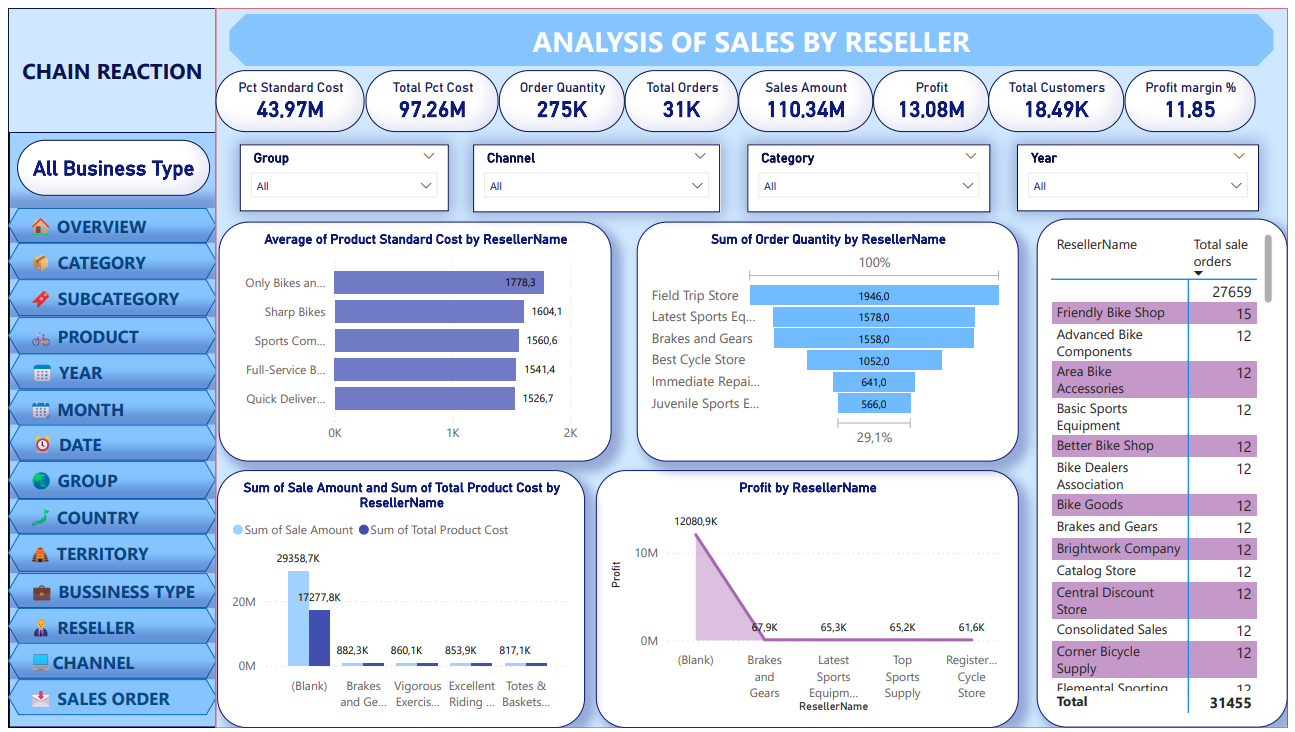

Layout of this report page (visuals, bound fields, positions):
{"tool":"powerbi","page":{"name":"Reseller","canvas":[1280,720],"ordinal":2},"visuals":[{"type":"shape","box":[0,0,209.9,720.4],"z":0},{"type":"shape","box":[0,199.4,208.6,35],"z":1000},{"type":"shape","box":[0,234.3,209,37],"z":2000},{"type":"shape","box":[0,271.3,209,37],"z":3000},{"type":"shape","box":[0,308.3,209,37],"z":4000},{"type":"shape","box":[1,345.3,208,36],"z":5000},{"type":"shape","box":[0,381.3,209,36],"z":6000},{"type":"shape","box":[1,417.3,208,36],"z":7000},{"type":"shape","box":[0,453.3,208,38],"z":8000},{"type":"shape","box":[0,491.3,209,35],"z":9000},{"type":"shape","box":[0,526.3,209,38],"z":10000},{"type":"shape","box":[0,564.3,209,35],"z":11000},{"type":"shape","box":[0,599.3,209,36],"z":12000},{"type":"shape","box":[0,635.3,209,36],"z":13000},{"type":"shape","box":[0,671.3,209,36],"z":14000},{"type":"shape","title":"dbdbdjb","box":[235.7,0,1044.3,52.1],"z":15000},{"type":"shape","box":[0.4,0,209.1,124.7],"z":16000},{"type":"shape","box":[207.6,0,1072.4,720.2],"z":17000},{"type":"card","title":"Order Quantity","fields":{"Values":["Sum(Sales.Order Quantity)"]},"box":[490.4,62.4,126,62.4],"z":18000},{"type":"card","title":"Pct Standard Cost","fields":{"Values":["Sum(Sales.Product Standard Cost)"]},"box":[207.9,62.4,149.2,62.4],"z":19000},{"type":"card","title":"Sales Amount","fields":{"Values":["Sum(Sales.Sale Amount)"]},"box":[730,62.4,134.5,62.4],"z":20000},{"type":"card","title":"Profit","fields":{"Values":["Sales.Profit"]},"box":[864.5,62.4,116.2,62.4],"z":21000},{"type":"card","title":"Total Pct Cost","fields":{"Values":["Sum(Sales.Total Product Cost)"]},"box":[357.1,62.4,133.3,62.4],"z":22000},{"type":"card","title":"Total Orders","fields":{"Values":["Sales.Total sale orders"]},"box":[616.3,62.4,113.7,62.4],"z":23000},{"type":"card","title":"Total Customers","fields":{"Values":["Count(Customer.Customer ID)"]},"box":[980.7,62.4,135.7,62.4],"z":24000},{"type":"card","title":"Profit margin %","fields":{"Values":["Sales.Profit margin"]},"box":[1116.4,62.4,130.8,62.4],"z":25000},{"type":"clusteredBarChart","fields":{"Category":["Reseller.ResellerName"],"Y":["Avg(Sales.Product Standard Cost)"]},"box":[210.5,213.6,392.7,240.4],"z":26000},{"type":"areaChart","fields":{"Category":["Reseller.ResellerName"],"Y":["Sales.Profit"]},"box":[587.5,461.9,422.6,257.6],"z":27000},{"type":"clusteredColumnChart","fields":{"Category":["Reseller.ResellerName"],"Y":["Sum(Sales.Sale Amount)","Sum(Sales.Total Product Cost)"]},"box":[208.9,461.9,367.6,257.6],"z":28000},{"type":"funnel","fields":{"Y":["Sum(Sales.Order Quantity)"],"Category":["Reseller.ResellerName"]},"box":[628.4,213.6,381.7,240.4],"z":29000},{"type":"slicer","title":"Date","fields":{"Values":["Date.Year"]},"box":[1009.6,135.9,242,66.8],"z":30000},{"type":"slicer","title":"Category","fields":{"Values":["Category.Category"]},"box":[739.1,135.9,243.2,67.9],"z":31000},{"type":"slicer","title":"Channel","fields":{"Values":["Channel.Channel"]},"box":[464.9,137.1,246.7,67.9],"z":32000},{"type":"slicer","title":"Group","fields":{"Values":["Group.Group"]},"box":[231.3,137.1,208.6,66.8],"z":33000},{"type":"shape","title":"dbdbdjb","box":[221.1,5.6,1044.4,52.2],"z":34000},{"type":"pivotTable","fields":{"Rows":["Reseller.ResellerName"],"Values":["Sales.Total sale orders"]},"box":[1029,210.5,251.4,509],"z":35000},{"type":"card","fields":{"Values":["Business Type.SBusinessType"]},"box":[8.6,132.1,193.2,56.3],"z":36000}]}

Visuals, with their boxes in screenshot pixels (x1, y1, x2, y2), scaled from the page's 1280x720 canvas onto the 1295x732 screenshot:
shape: pyautogui.locateOnScreen(0, 0, 212, 731)
shape: pyautogui.locateOnScreen(0, 203, 211, 238)
shape: pyautogui.locateOnScreen(0, 238, 211, 276)
shape: pyautogui.locateOnScreen(0, 276, 211, 313)
shape: pyautogui.locateOnScreen(0, 313, 211, 351)
shape: pyautogui.locateOnScreen(1, 351, 211, 388)
shape: pyautogui.locateOnScreen(0, 388, 211, 424)
shape: pyautogui.locateOnScreen(1, 424, 211, 461)
shape: pyautogui.locateOnScreen(0, 461, 210, 499)
shape: pyautogui.locateOnScreen(0, 499, 211, 535)
shape: pyautogui.locateOnScreen(0, 535, 211, 574)
shape: pyautogui.locateOnScreen(0, 574, 211, 609)
shape: pyautogui.locateOnScreen(0, 609, 211, 646)
shape: pyautogui.locateOnScreen(0, 646, 211, 682)
shape: pyautogui.locateOnScreen(0, 682, 211, 719)
"dbdbdjb" shape: pyautogui.locateOnScreen(238, 0, 1294, 53)
shape: pyautogui.locateOnScreen(0, 0, 212, 127)
shape: pyautogui.locateOnScreen(210, 0, 1294, 731)
"Order Quantity" card: pyautogui.locateOnScreen(496, 63, 624, 127)
"Pct Standard Cost" card: pyautogui.locateOnScreen(210, 63, 361, 127)
"Sales Amount" card: pyautogui.locateOnScreen(739, 63, 875, 127)
"Profit" card: pyautogui.locateOnScreen(875, 63, 992, 127)
"Total Pct Cost" card: pyautogui.locateOnScreen(361, 63, 496, 127)
"Total Orders" card: pyautogui.locateOnScreen(624, 63, 739, 127)
"Total Customers" card: pyautogui.locateOnScreen(992, 63, 1129, 127)
"Profit margin %" card: pyautogui.locateOnScreen(1129, 63, 1262, 127)
clusteredBarChart - Reseller.ResellerName x Avg(Sales.Product Standard Cost): pyautogui.locateOnScreen(213, 217, 610, 462)
areaChart - Reseller.ResellerName x Sales.Profit: pyautogui.locateOnScreen(594, 470, 1022, 731)
clusteredColumnChart - Reseller.ResellerName x Sum(Sales.Sale Amount): pyautogui.locateOnScreen(211, 470, 583, 731)
funnel - Sum(Sales.Order Quantity) x Reseller.ResellerName: pyautogui.locateOnScreen(636, 217, 1022, 462)
"Date" slicer: pyautogui.locateOnScreen(1021, 138, 1266, 206)
"Category" slicer: pyautogui.locateOnScreen(748, 138, 994, 207)
"Channel" slicer: pyautogui.locateOnScreen(470, 139, 720, 208)
"Group" slicer: pyautogui.locateOnScreen(234, 139, 445, 207)
"dbdbdjb" shape: pyautogui.locateOnScreen(224, 6, 1280, 59)
pivotTable - Reseller.ResellerName x Sales.Total sale orders: pyautogui.locateOnScreen(1041, 214, 1294, 731)
card - Business Type.SBusinessType: pyautogui.locateOnScreen(9, 134, 204, 192)
